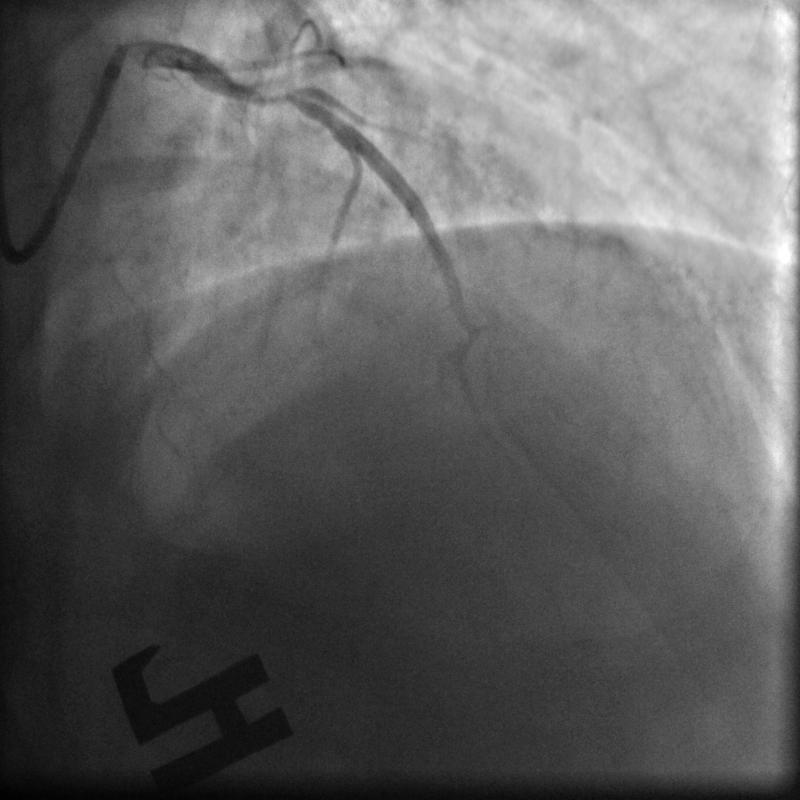Stenosis: (245, 78, 305, 110)
